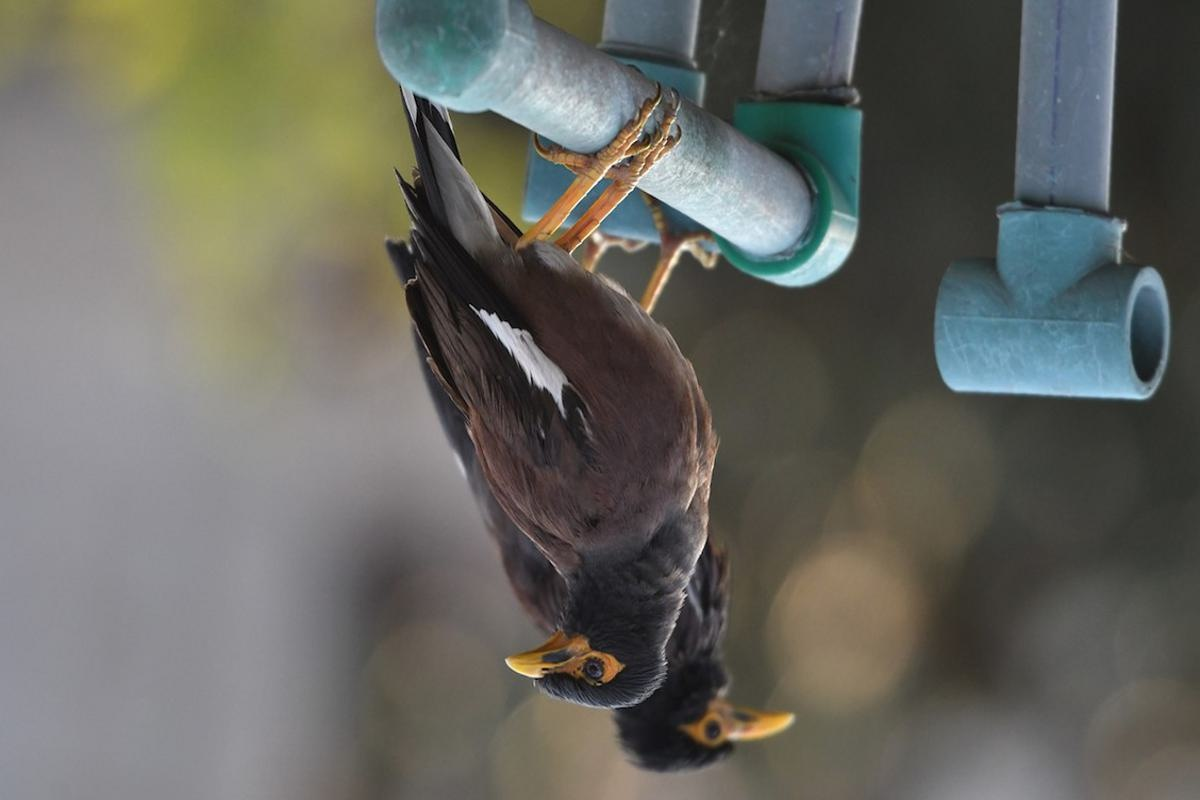myna: (386, 114, 713, 712)
